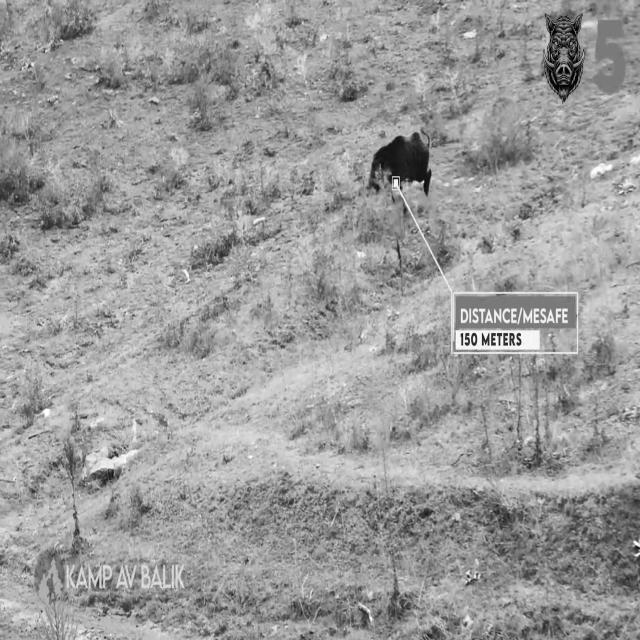boar: (368, 132, 431, 194)
